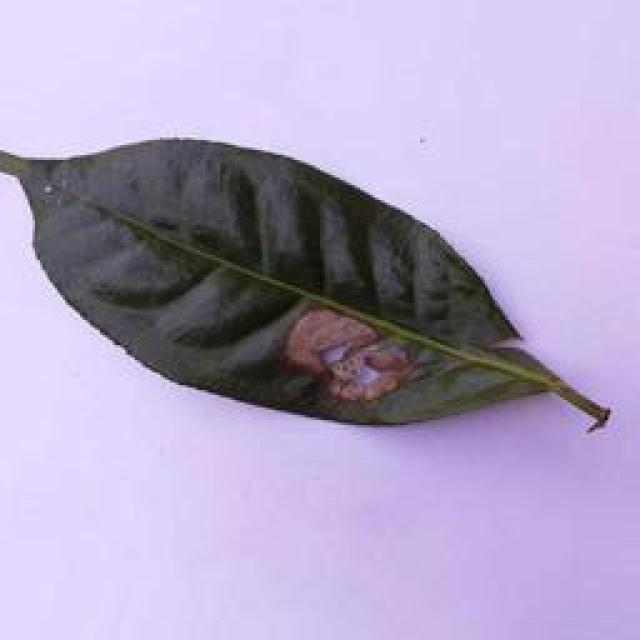Gray Blight: (0, 125, 612, 442)
